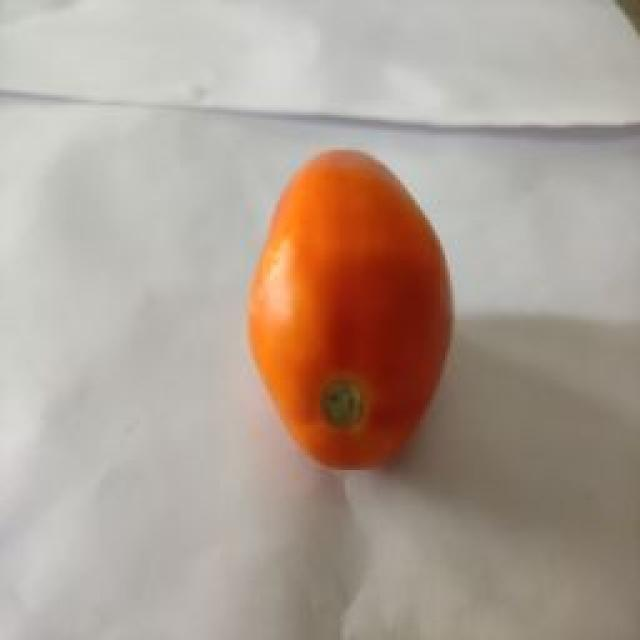tomato: (248, 148, 453, 470)
